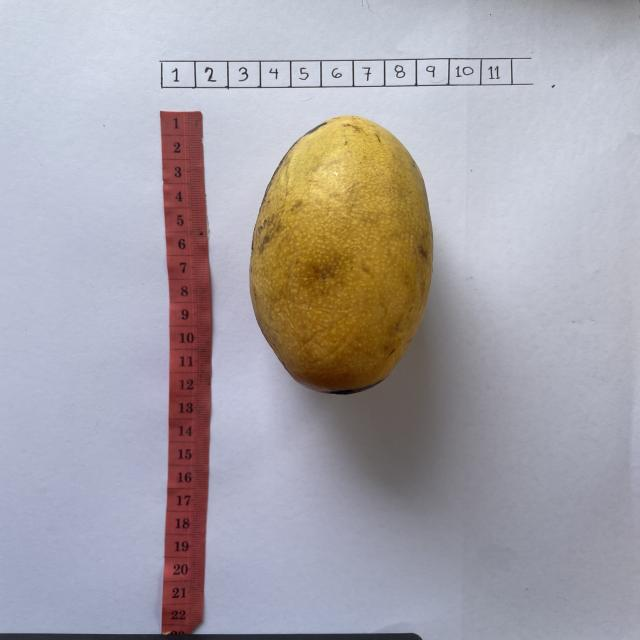Ripe: (247, 115, 435, 397)
